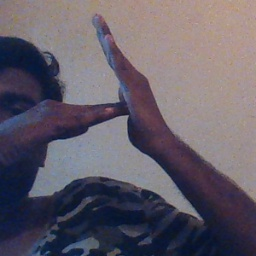Z: (57, 11, 169, 157)
